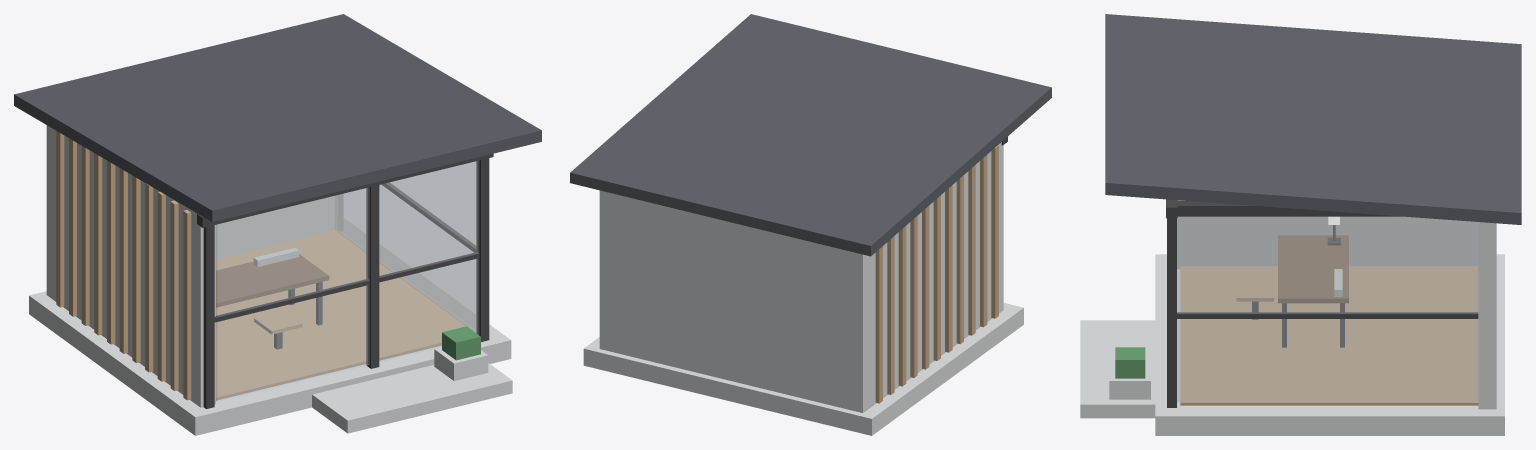
File: studio.glb
3 renders of one model, left to right at view 1: azimuth 30°, elevation 25°; view 2: azimuth 150°, elevation 25°; view 3: azimuth 270°, elevation 25°, orthographic. The views are drawn at different scales.
Parts seen in each view (by area): view 1: Studio_Pavilion_Roof, Studio_Glass_Front_Left, Studio_Floor_Oak, Studio_Glass_Front_Right, Studio_Foundation_Plinth, Studio_Wall_West, Studio_Glass_East_Facade, Studio_Terrace_Pad, Studio_Wall_North, Studio_Workbench_Top, Studio_Steel_Column_4, Studio_Steel_Column_1 (+18 smaller); view 2: Studio_Pavilion_Roof, Studio_Wall_North, Studio_Foundation_Plinth, Studio_Wall_West, Studio_Wood_Batten_8, Studio_Wood_Batten_0, Studio_Wood_Batten_1, Studio_Wood_Batten_2, Studio_Wood_Batten_3, Studio_Wood_Batten_4, Studio_Wood_Batten_5, Studio_Wood_Batten_6 (+3 smaller); view 3: Studio_Pavilion_Roof, Studio_Glass_East_Facade, Studio_Floor_Oak, Studio_Foundation_Plinth, Studio_Wall_West, Studio_Terrace_Pad, Studio_Workbench_Top, Studio_Wall_North, Studio_Mullion_East_H, Studio_Steel_Beam_East, Studio_Steel_Column_1, Studio_Planter_Box (+2 smaller).
Boxes of the visible parts, x1=… form: Studio_Pavilion_Roof: x1=14, y1=14, x2=541, y2=222; Studio_Glass_Front_Left: x1=216, y1=188, x2=369, y2=401; Studio_Floor_Oak: x1=216, y1=230, x2=475, y2=400; Studio_Glass_Front_Right: x1=379, y1=161, x2=478, y2=361; Studio_Foundation_Plinth: x1=29, y1=218, x2=511, y2=435; Studio_Wall_West: x1=55, y1=130, x2=215, y2=407; Studio_Glass_East_Facade: x1=336, y1=162, x2=475, y2=331; Studio_Terrace_Pad: x1=312, y1=363, x2=512, y2=433; Studio_Wall_North: x1=46, y1=125, x2=343, y2=300; Studio_Workbench_Top: x1=216, y1=254, x2=329, y2=307; Studio_Steel_Column_4: x1=366, y1=185, x2=379, y2=368; Studio_Steel_Column_1: x1=476, y1=158, x2=489, y2=341; Studio_Pavilion_Roof: x1=570, y1=14, x2=1051, y2=256; Studio_Wall_North: x1=599, y1=190, x2=868, y2=412; Studio_Foundation_Plinth: x1=583, y1=303, x2=1023, y2=435; Studio_Wall_West: x1=867, y1=142, x2=1003, y2=409; Studio_Wood_Batten_8: x1=898, y1=226, x2=906, y2=386; Studio_Wood_Batten_0: x1=991, y1=145, x2=998, y2=318; Studio_Wood_Batten_1: x1=980, y1=155, x2=987, y2=327; Studio_Wood_Batten_2: x1=968, y1=165, x2=975, y2=335; Studio_Wood_Batten_3: x1=956, y1=175, x2=963, y2=344; Studio_Wood_Batten_4: x1=945, y1=185, x2=952, y2=352; Studio_Wood_Batten_5: x1=933, y1=195, x2=940, y2=360; Studio_Wood_Batten_6: x1=922, y1=206, x2=929, y2=369; Studio_Pavilion_Roof: x1=1105, y1=14, x2=1521, y2=224; Studio_Glass_East_Facade: x1=1177, y1=217, x2=1477, y2=402; Studio_Floor_Oak: x1=1180, y1=266, x2=1478, y2=405; Studio_Foundation_Plinth: x1=1155, y1=254, x2=1504, y2=435; Studio_Wall_West: x1=1177, y1=200, x2=1478, y2=269; Studio_Terrace_Pad: x1=1080, y1=320, x2=1155, y2=418; Studio_Workbench_Top: x1=1278, y1=235, x2=1348, y2=303; Studio_Wall_North: x1=1478, y1=222, x2=1496, y2=409; Studio_Mullion_East_H: x1=1177, y1=312, x2=1478, y2=318; Studio_Steel_Beam_East: x1=1167, y1=201, x2=1401, y2=216; Studio_Steel_Column_1: x1=1167, y1=201, x2=1176, y2=407; Studio_Planter_Box: x1=1109, y1=363, x2=1150, y2=399.
Bounding box in the file's own units: 4.8 × 3.4 × 5.3.
